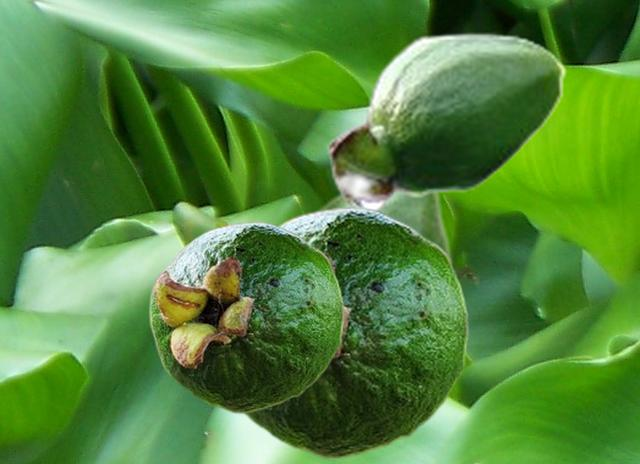guava: (239, 206, 469, 459), (327, 31, 566, 210), (148, 221, 344, 413), (317, 190, 451, 255)
